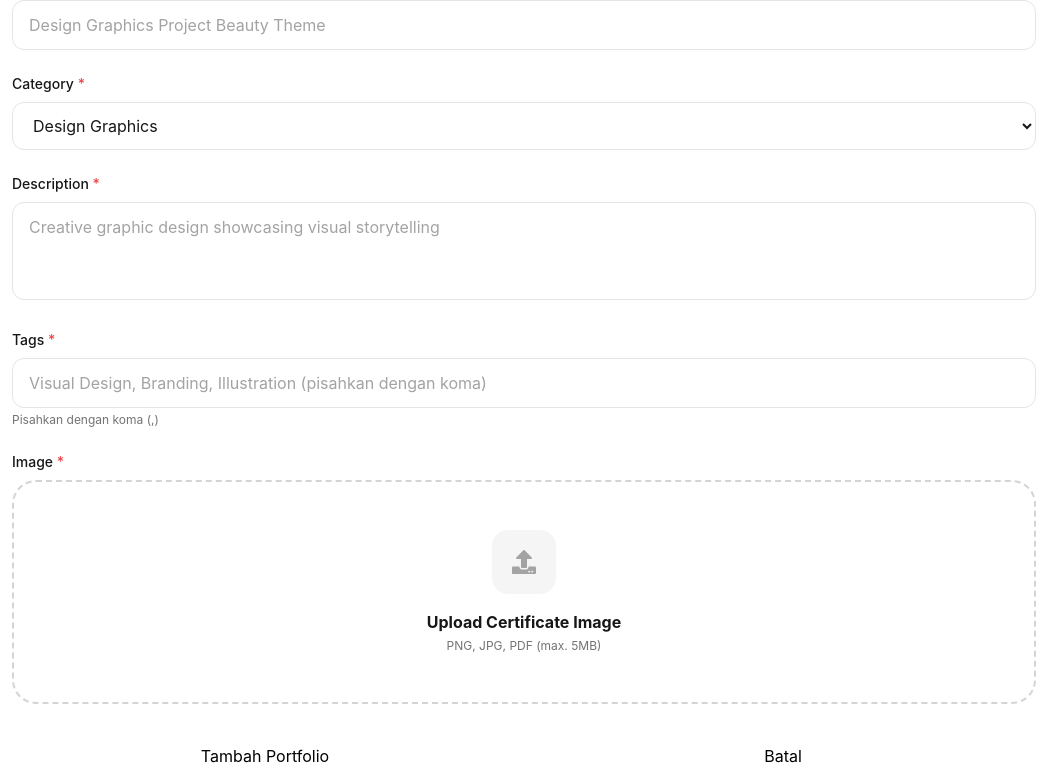
it: PortfolioForm › shows validation errors when submitting empty form
(page scrolled)
Click the button "Tambah Portfolio" at x=265, y=756, box [12,744,518,767]
(page scrolled)
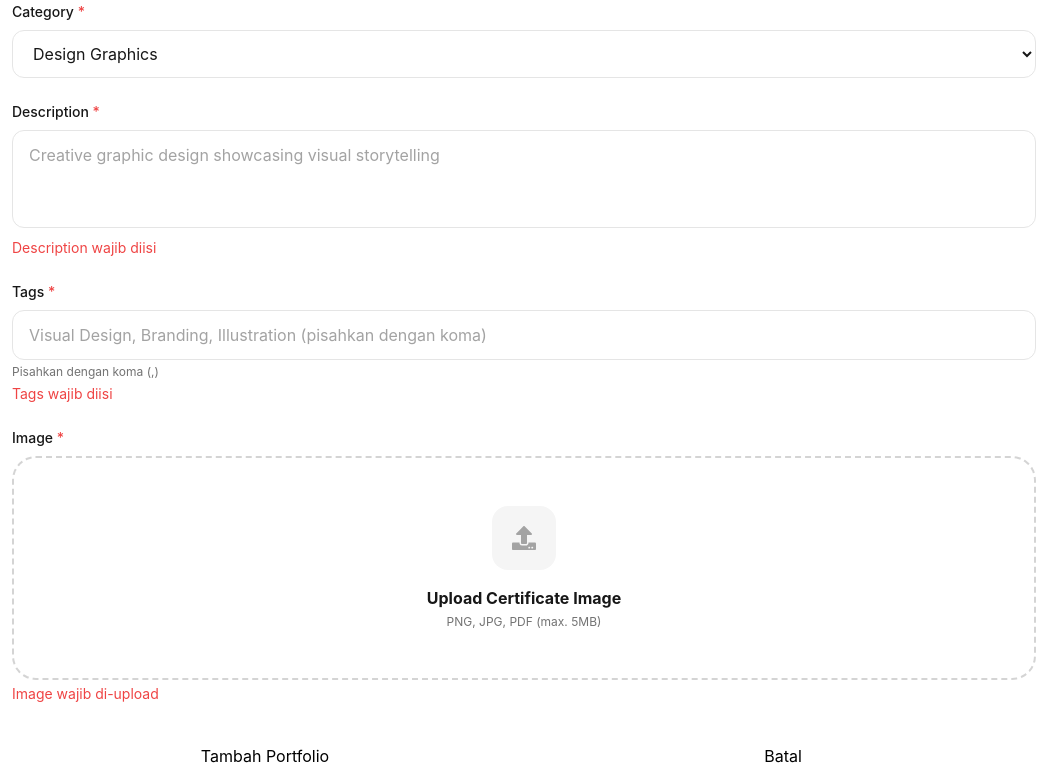
Check: the text "Description wajib diisi" is shown, box [12,239,156,256]
Check: the text "Tags wajib diisi" is shown, box [12,385,112,402]
Check: the text "Image wajib di-upload" is shown, box [12,685,159,702]
